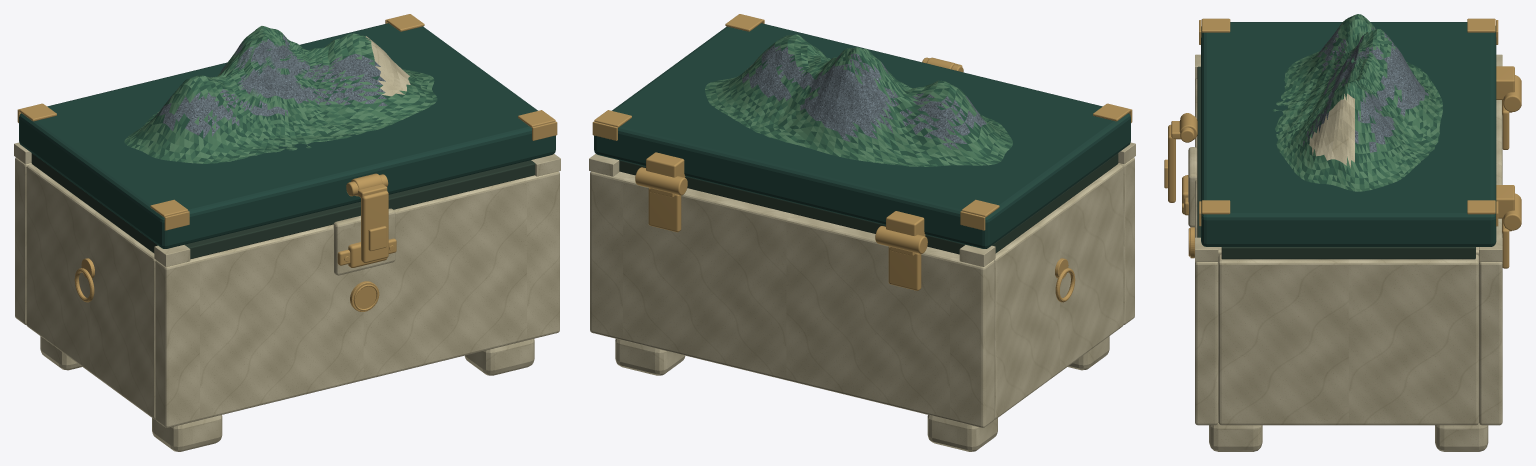
Rendered from first.glb.
3 renders of one model, left to right at view 1: azimuth 30°, elevation 25°; view 2: azimuth 150°, elevation 25°; view 3: azimuth 270°, elevation 25°, orthographic.
Parts seen in each view (by area): view 1: Limestone / long wall, Lid / polished slab, Terrain / Blue and John Crow relief, Limestone / end wall, Mineral seam / long, Limestone / long wall.001, Limestone / carved foot, Limestone / carved foot.002, Latch / lifting hasp, Limestone / clasp seat, Mineral seam / side, Limestone / rim corner (+2 smaller); view 2: Limestone / long wall.001, Lid / polished slab, Terrain / Blue and John Crow relief, Limestone / end wall, Mineral seam / long.001, Limestone / long wall, Limestone / carved foot.001, Limestone / carved foot.003, Mineral seam / side, Hinge / fixed mount.001, Hinge / fixed mount, Hinge / fixed barrel.001 (+6 smaller); view 3: Lid / polished slab, Limestone / end wall.001, Terrain / Blue and John Crow relief, Limestone / long wall.001, Limestone / long wall, Mineral seam / side.001, Limestone / carved foot.002, Limestone / carved foot.003, Limestone / clasp seat, Mineral seam / long, Hinge / moving leaf, Latch / lifting hasp (+9 smaller).
Boxes of the visible parts, bbox=[...] form: Limestone / long wall: bbox=[155, 171, 559, 427]; Lid / polished slab: bbox=[19, 23, 555, 248]; Terrain / Blue and John Crow relief: bbox=[124, 26, 437, 163]; Limestone / end wall: bbox=[26, 164, 155, 419]; Mineral seam / long: bbox=[184, 160, 535, 259]; Limestone / long wall.001: bbox=[15, 157, 31, 325]; Limestone / carved foot: bbox=[152, 415, 222, 451]; Limestone / carved foot.002: bbox=[464, 339, 534, 375]; Latch / lifting hasp: bbox=[361, 191, 388, 262]; Limestone / clasp seat: bbox=[333, 208, 395, 275]; Mineral seam / side: bbox=[31, 153, 157, 253]; Limestone / rim corner: bbox=[154, 245, 190, 266]; Limestone / long wall.001: bbox=[590, 171, 994, 427]; Lid / polished slab: bbox=[594, 23, 1130, 248]; Terrain / Blue and John Crow relief: bbox=[705, 34, 1012, 166]; Limestone / end wall: bbox=[994, 164, 1123, 419]; Mineral seam / long.001: bbox=[619, 160, 965, 254]; Limestone / long wall: bbox=[1118, 157, 1134, 325]; Limestone / carved foot.001: bbox=[927, 415, 997, 451]; Limestone / carved foot.003: bbox=[615, 339, 685, 375]; Mineral seam / side: bbox=[992, 153, 1118, 253]; Hinge / fixed mount.001: bbox=[648, 188, 681, 232]; Hinge / fixed mount: bbox=[888, 246, 921, 290]; Hinge / fixed barrel.001: bbox=[635, 167, 687, 195]; Lid / polished slab: bbox=[1201, 22, 1496, 246]; Limestone / end wall.001: bbox=[1218, 254, 1478, 425]; Terrain / Blue and John Crow relief: bbox=[1272, 14, 1442, 191]; Limestone / long wall.001: bbox=[1479, 100, 1502, 425]; Limestone / long wall: bbox=[1195, 79, 1218, 425]; Mineral seam / side.001: bbox=[1221, 247, 1475, 259]; Limestone / carved foot.002: bbox=[1209, 423, 1262, 451]; Limestone / carved foot.003: bbox=[1435, 423, 1488, 451]; Limestone / clasp seat: bbox=[1188, 147, 1197, 227]; Mineral seam / long: bbox=[1197, 66, 1200, 237]; Hinge / moving leaf: bbox=[1496, 66, 1514, 99]; Latch / lifting hasp: bbox=[1168, 124, 1175, 202].
Size of the model in its own units: 3.79 by 2.94 by 2.88.
Materials: 9 (2 with a texture image).
